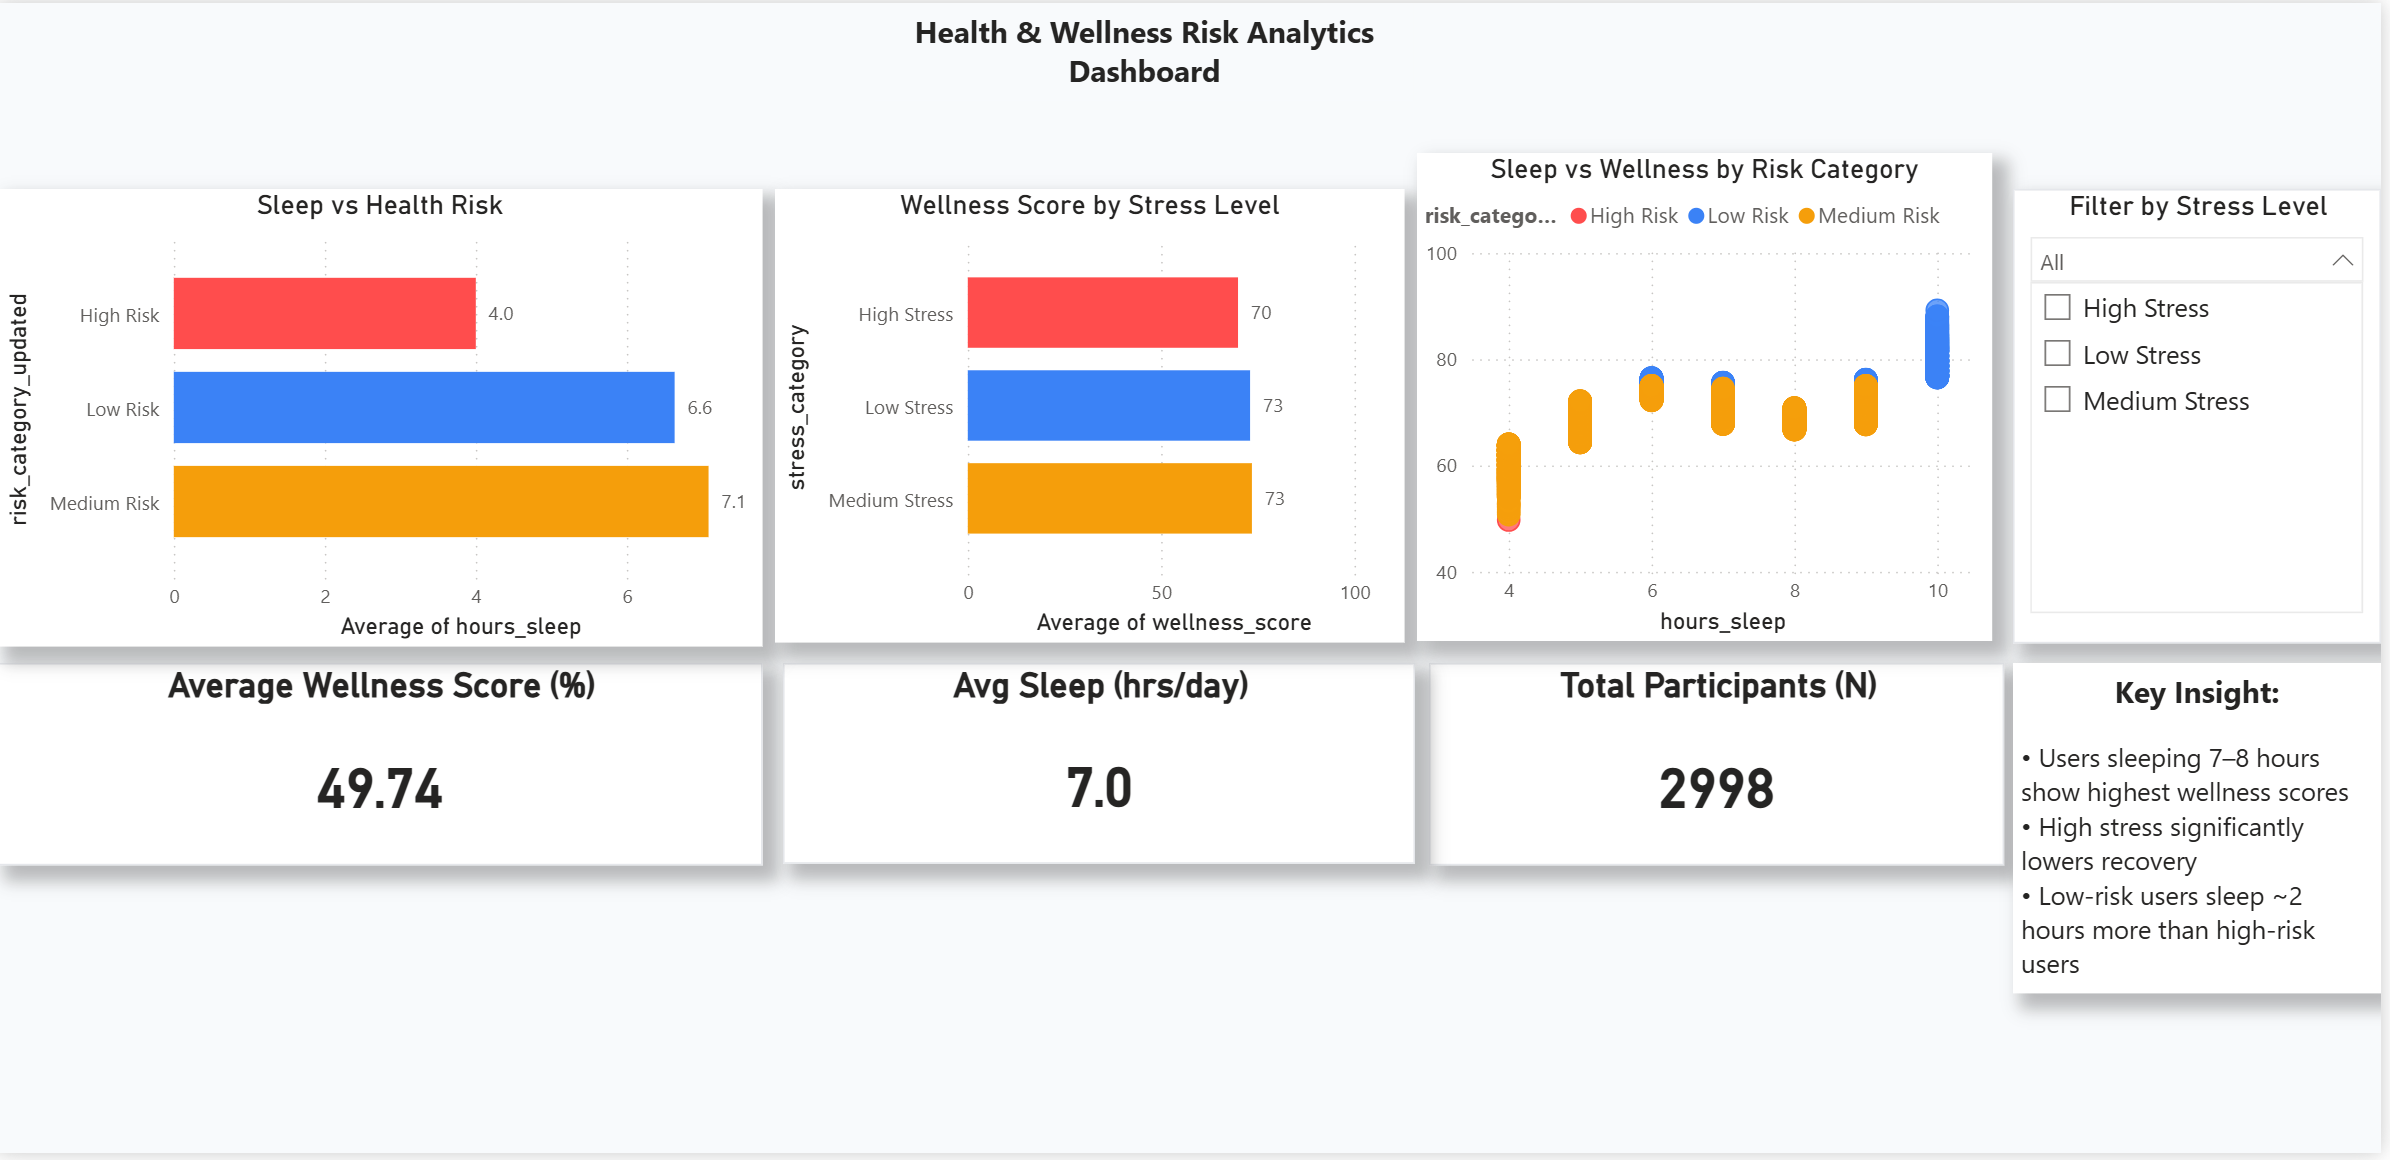

What the dashboard file says about the page in this screenshot:
{"tool":"powerbi","page":{"name":"Page 1","canvas":[1500,719],"ordinal":0},"visuals":[{"type":"card","title":"Average Wellness Score (%)","fields":{"Values":["Min(dashboard_data_cleaned.wellness_score)"]},"box":[0,412.7,478.5,126.6],"z":0},{"type":"card","title":"Total Participants (N)","fields":{"Values":["CountNonNull(dashboard_data_cleaned.participant_id)"]},"box":[894.9,412.7,359.5,126.6],"z":1000},{"type":"card","title":"Avg Sleep (hrs/day)","fields":{"Values":["Avg(dashboard_data_cleaned.hours_sleep)"]},"box":[491.1,412.7,394.9,125.3],"z":2000},{"type":"textbox","box":[549.4,0,336.7,60.8],"z":3000},{"type":"clusteredBarChart","title":"Sleep vs Health Risk","fields":{"Category":["dashboard_data_cleaned.risk_category_updated"],"Y":["Avg(dashboard_data_cleaned.hours_sleep)"]},"box":[0,116.5,478.5,286.1],"z":4000},{"type":"barChart","title":"Wellness Score by Stress Level","fields":{"Category":["dashboard_data_cleaned.stress_category"],"Y":["Avg(dashboard_data_cleaned.wellness_score)"]},"box":[486.1,116.5,393.7,283.5],"z":5000},{"type":"scatterChart","title":"Sleep vs Wellness by Risk Category","fields":{"X":["dashboard_data_cleaned.hours_sleep"],"Y":["dashboard_data_cleaned.wellness_score"],"Series":["dashboard_data_cleaned.risk_category_updated"]},"box":[887.3,93.7,359.5,305.1],"z":6000},{"type":"slicer","title":"Filter by Stress Level","fields":{"Values":["dashboard_data_cleaned.stress_category"]},"box":[1254.4,116.5,230.4,282.3],"z":7000},{"type":"textbox","box":[1254.4,402.5,230.4,206.3],"z":8000}]}

Visuals, with their boxes in screenshot pixels (x1, y1, x2, y2), scaled from the page's 1500x719 canvas onto the 2390x1160 screenshot:
"Average Wellness Score (%)" card: BBox(0, 666, 762, 870)
"Total Participants (N)" card: BBox(1426, 666, 1999, 870)
"Avg Sleep (hrs/day)" card: BBox(782, 666, 1412, 868)
textbox: BBox(875, 0, 1412, 98)
"Sleep vs Health Risk" clusteredBarChart: BBox(0, 188, 762, 650)
"Wellness Score by Stress Level" barChart: BBox(775, 188, 1402, 645)
"Sleep vs Wellness by Risk Category" scatterChart: BBox(1414, 151, 1987, 643)
"Filter by Stress Level" slicer: BBox(1999, 188, 2366, 643)
textbox: BBox(1999, 649, 2366, 982)
